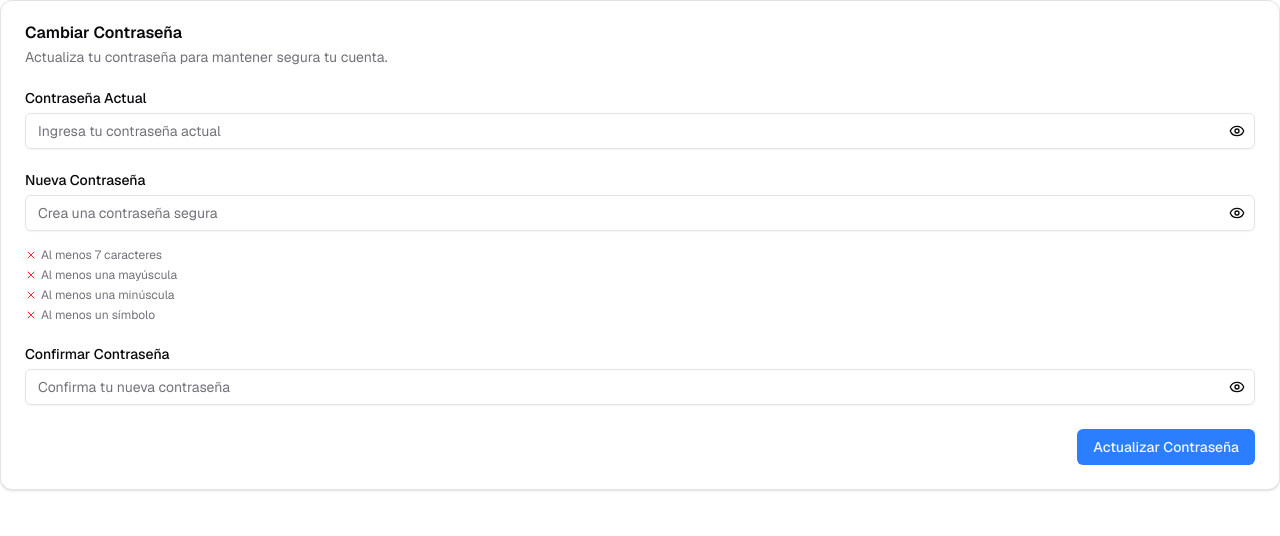
ChangePasswordForm › muestra error cuando las contraseñas no coinciden
In the password field with placeholder "Ingresa tu contraseña actual": (640, 131) [25,113,1255,149], type "Password123!"
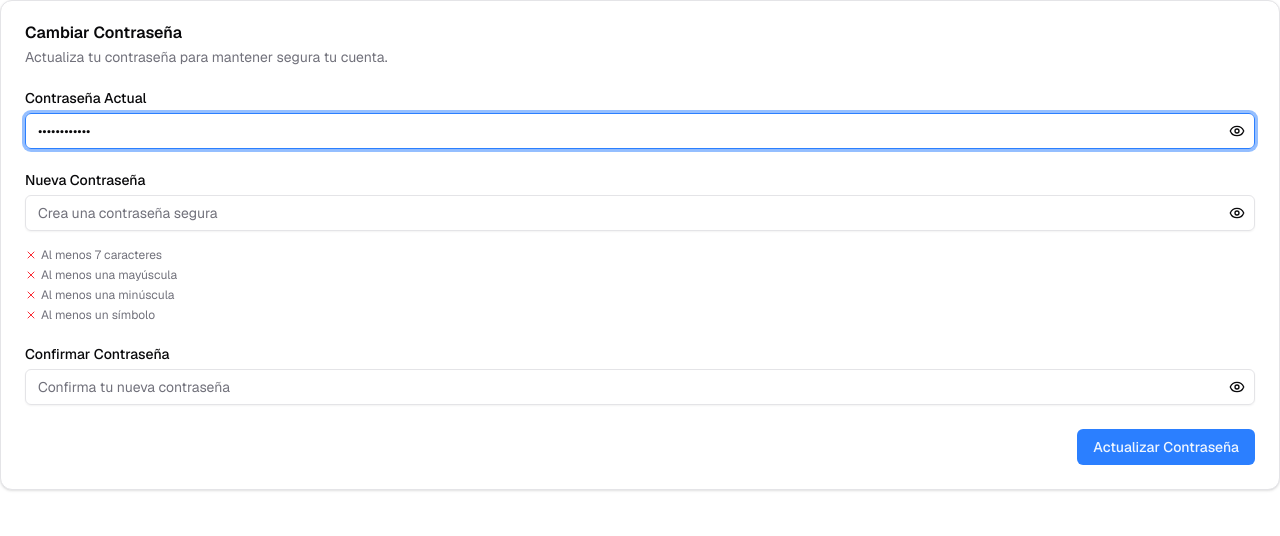
In the password field with placeholder "Crea una contraseña segura": (640, 213) [25,195,1255,231], type "NewPass123!"
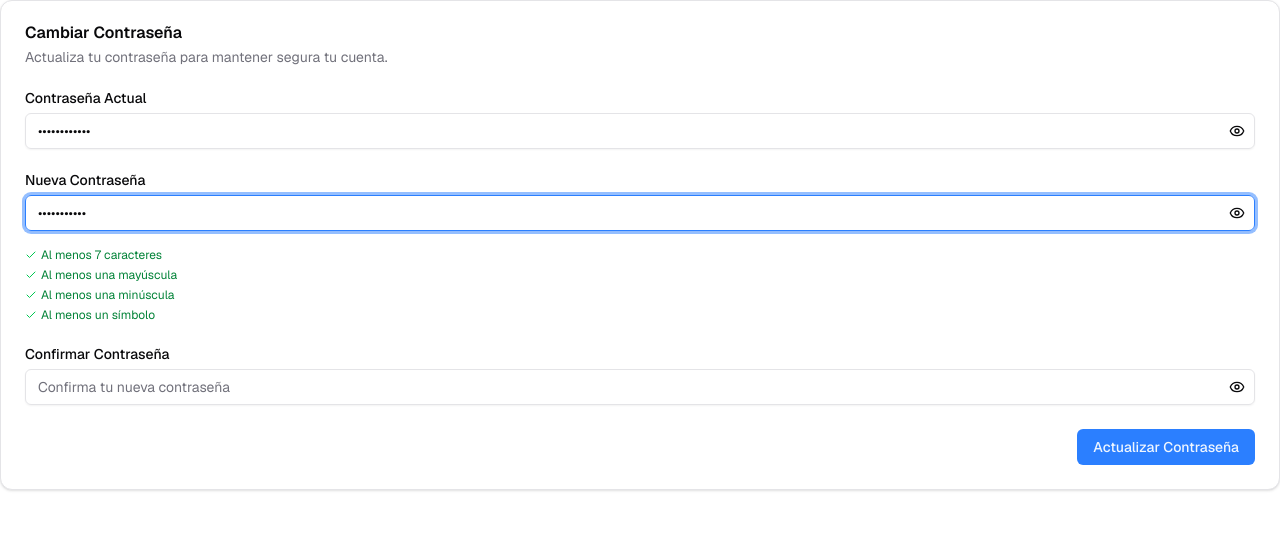
In the password field with placeholder "Confirma tu nueva contraseña": (640, 387) [25,369,1255,405], type "DifferentPass123!"
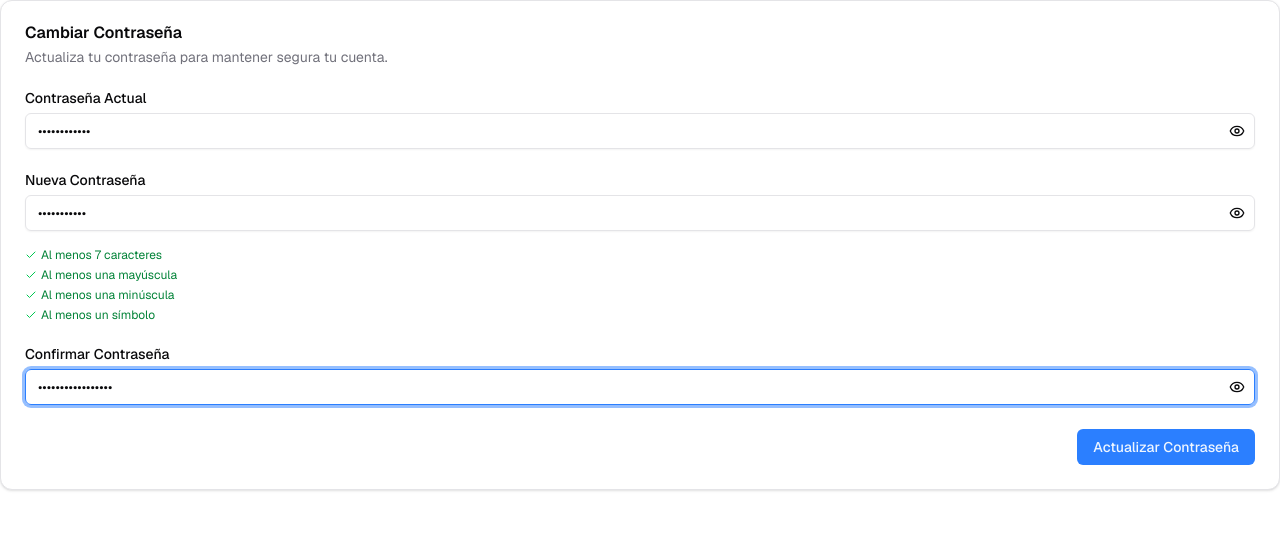
Click the button "Actualizar Contraseña": (1166, 447) [1077,429,1255,465]
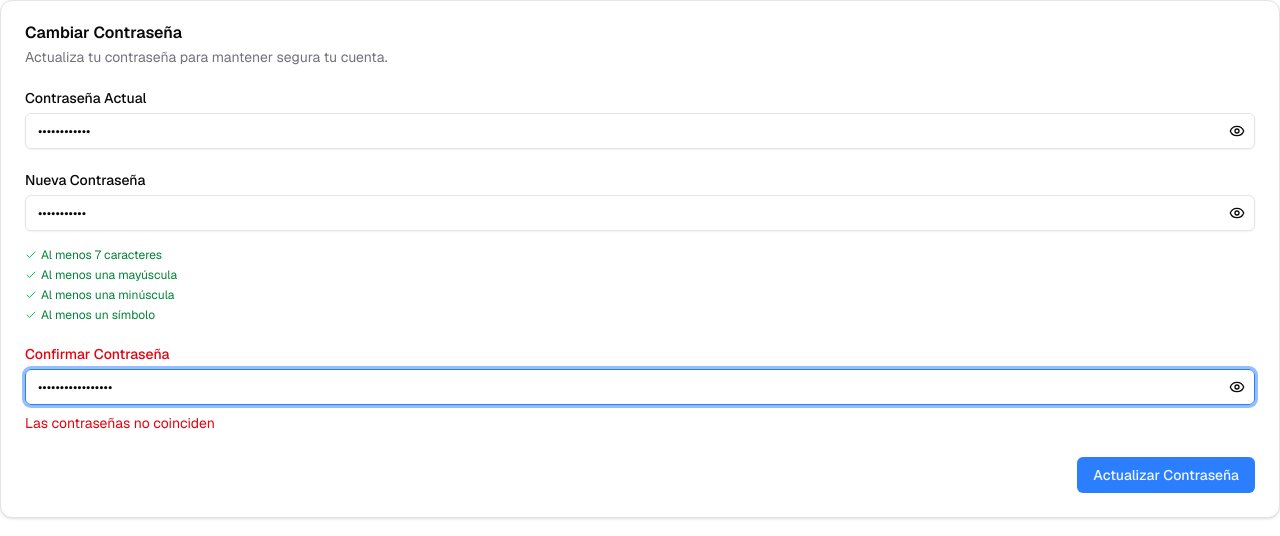
Expected: the text "Las contraseñas no coinciden" is shown, [25,414,215,432]
